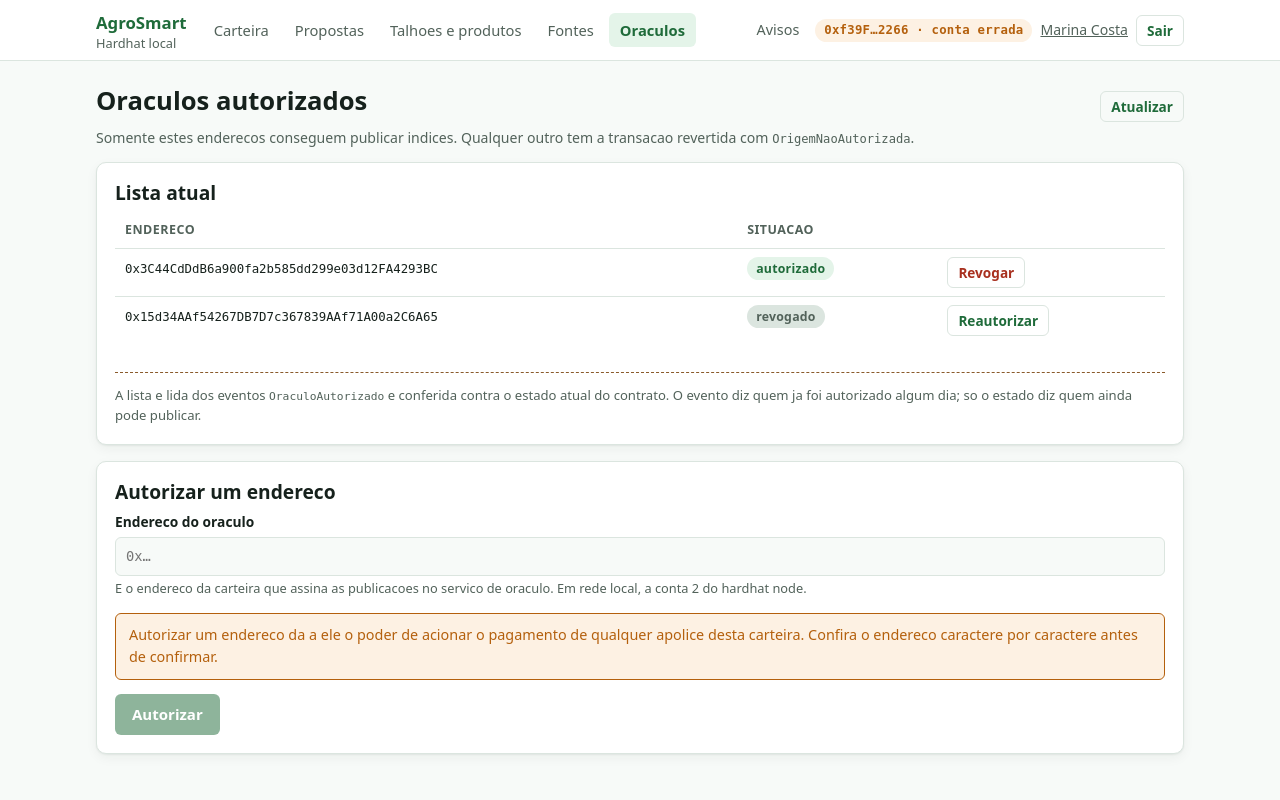
Test: oraculos autorizados (RF18) › lista, autoriza e revoga pela carteira da seguradora
Step 1. Click the button "Revogar" → coordinates (986, 272), box [947,257,1025,288]
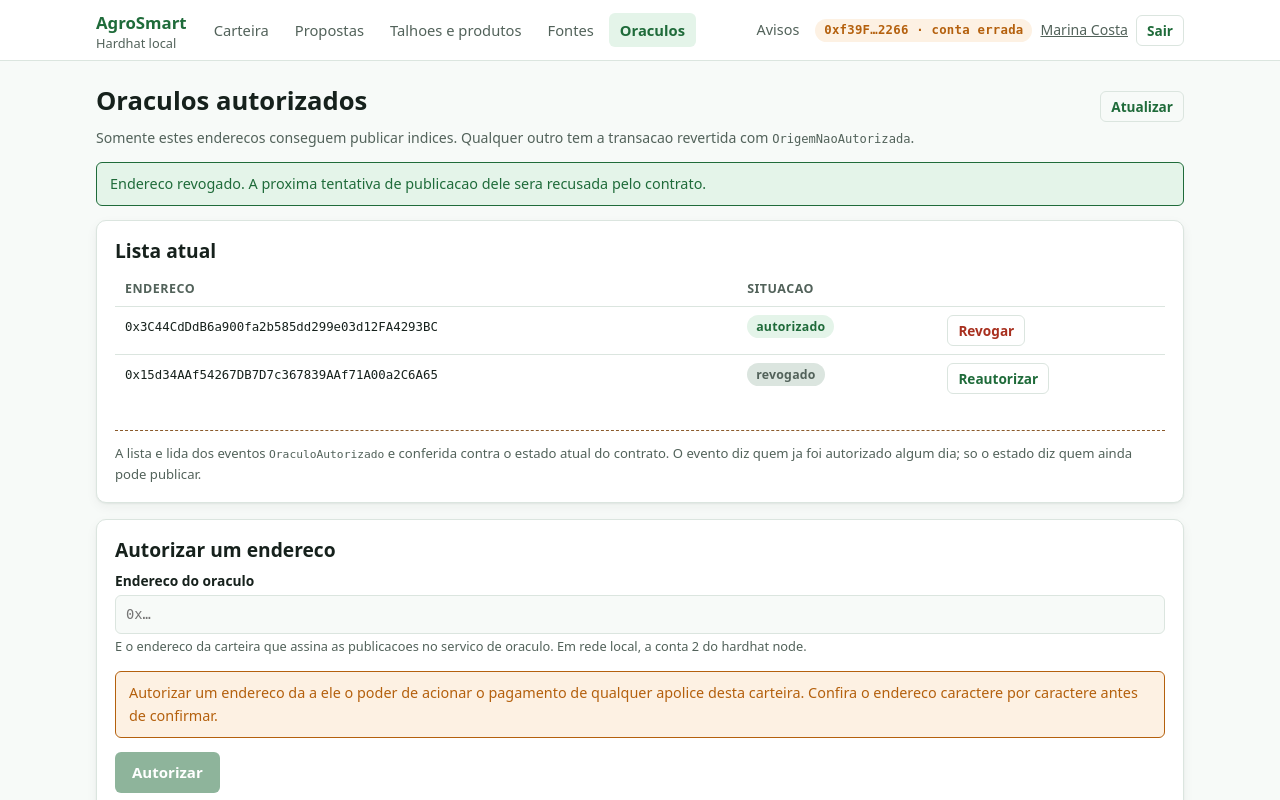
Now the text "Endereco revogado" is shown, box [110,174,706,193]
Step 2. Type "nao-e-endereco" into the field labelled "Endereco do oraculo" → coordinates (640, 615), box [115,595,1165,634]
(page scrolled)
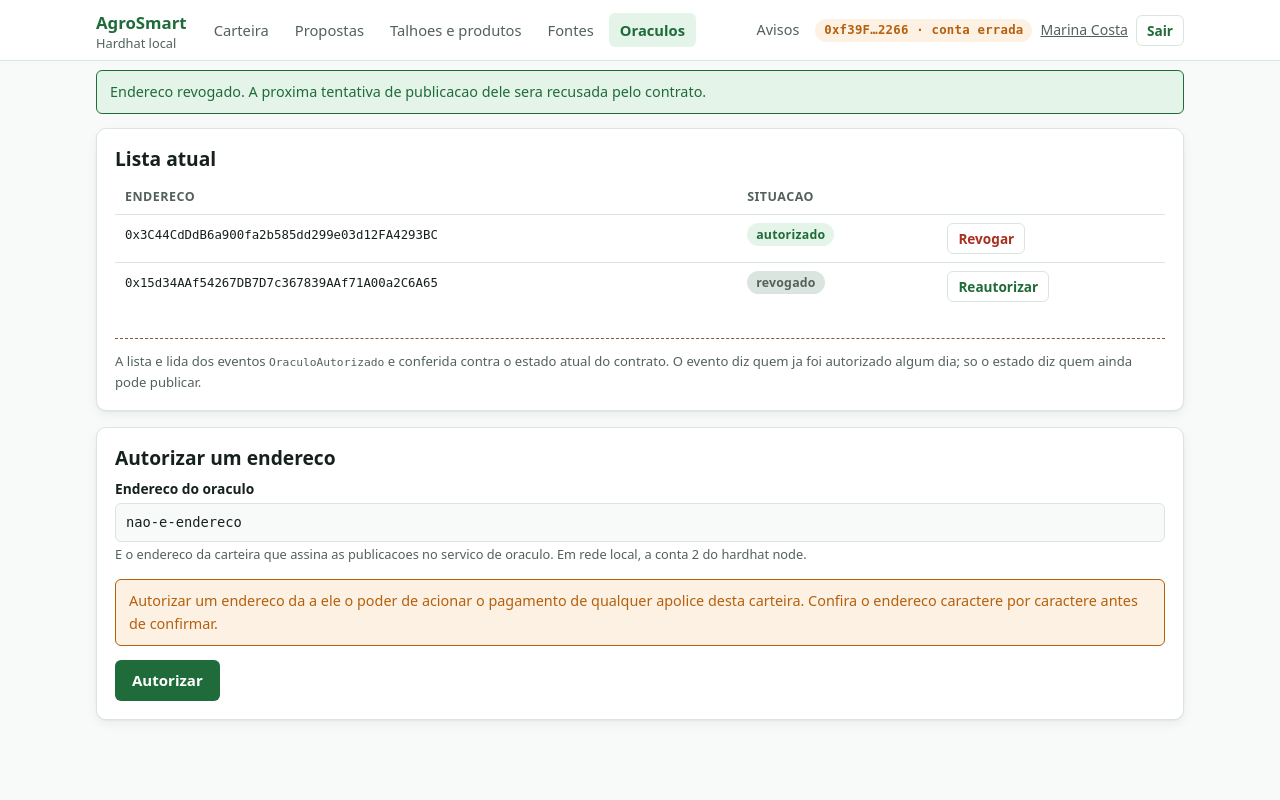
Step 3. Submit the form labelled "endereco", box [96,427,1184,720]
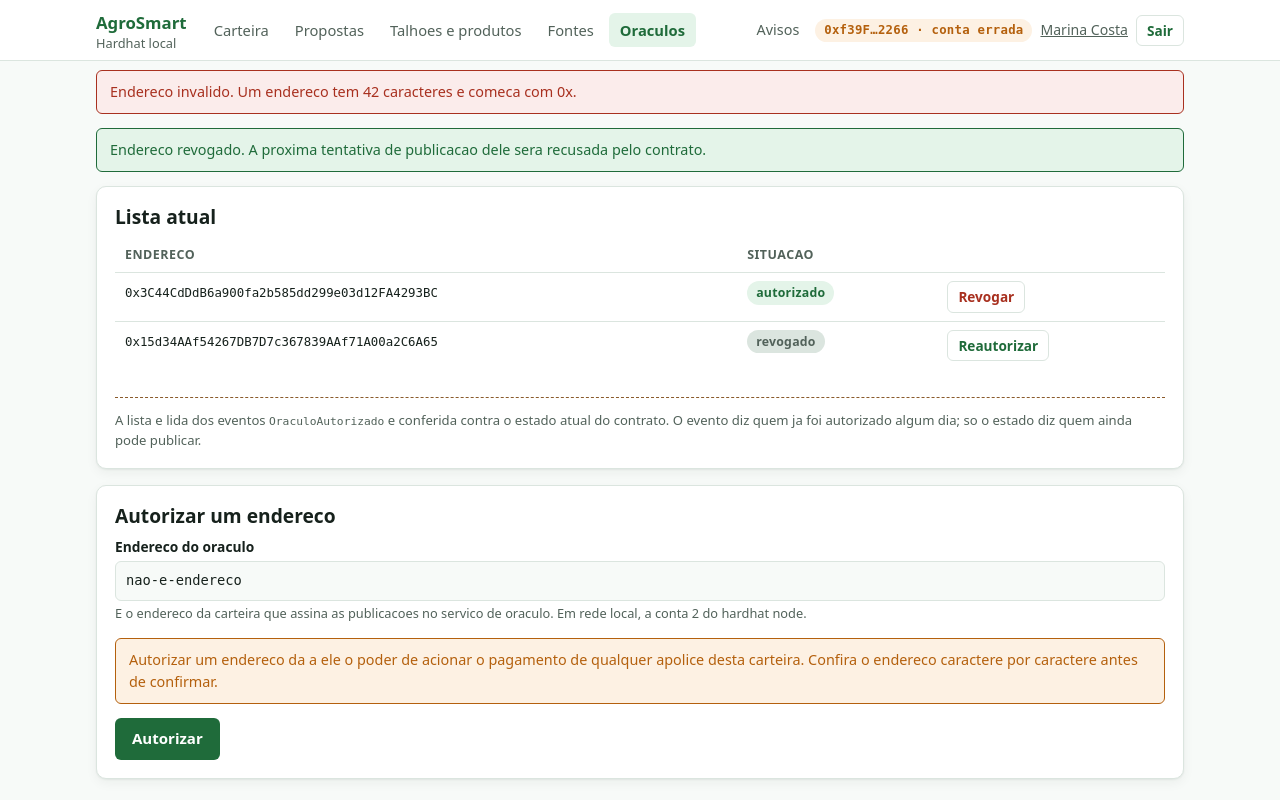
Now the text "Endereco invalido. Um endereco tem 42 caracteres e comeca com 0x." is shown, box [96,70,1184,114]
Step 4. Replace the text in the field labelled "Endereco do oraculo" with "0x9965507d1a55bcc2695c58ba16fb37d819b0a4dc" → coordinates (640, 581), box [115,561,1165,601]
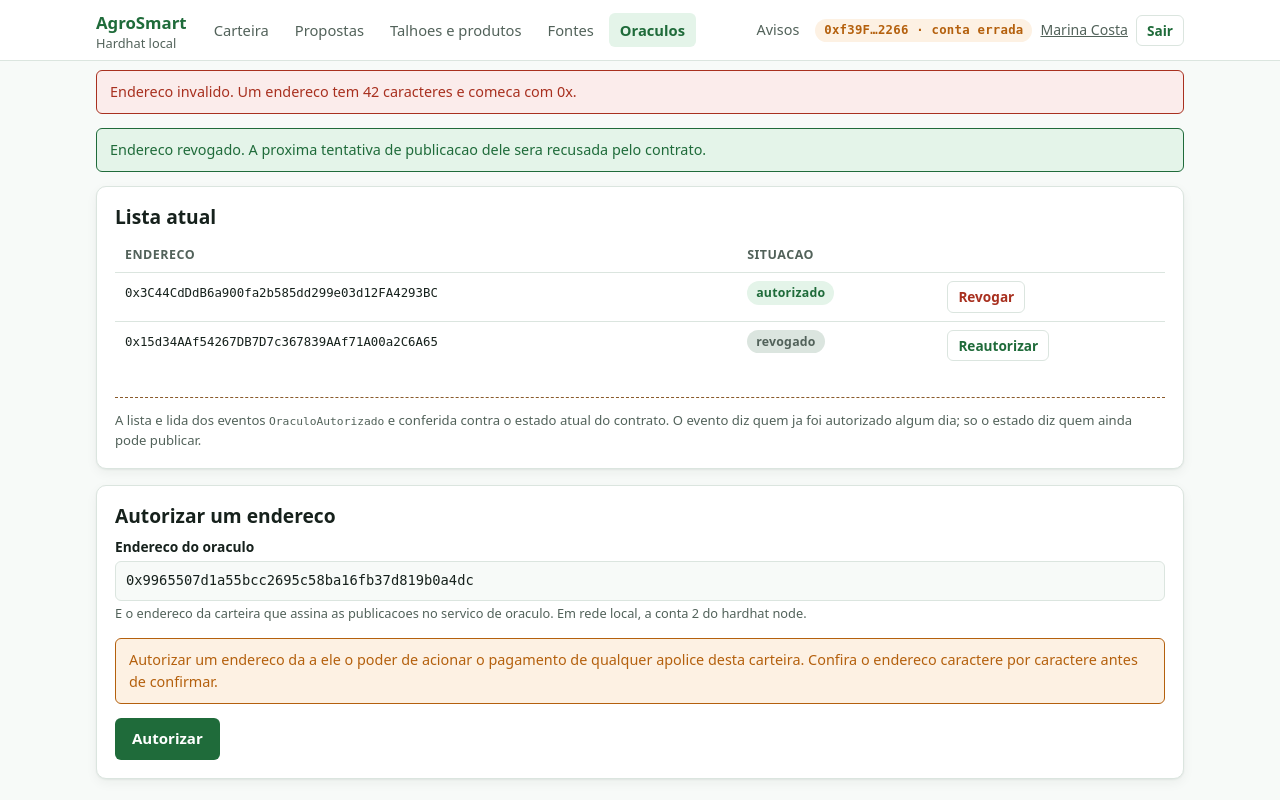
Step 5. Submit the form labelled "endereco", box [96,485,1184,778]
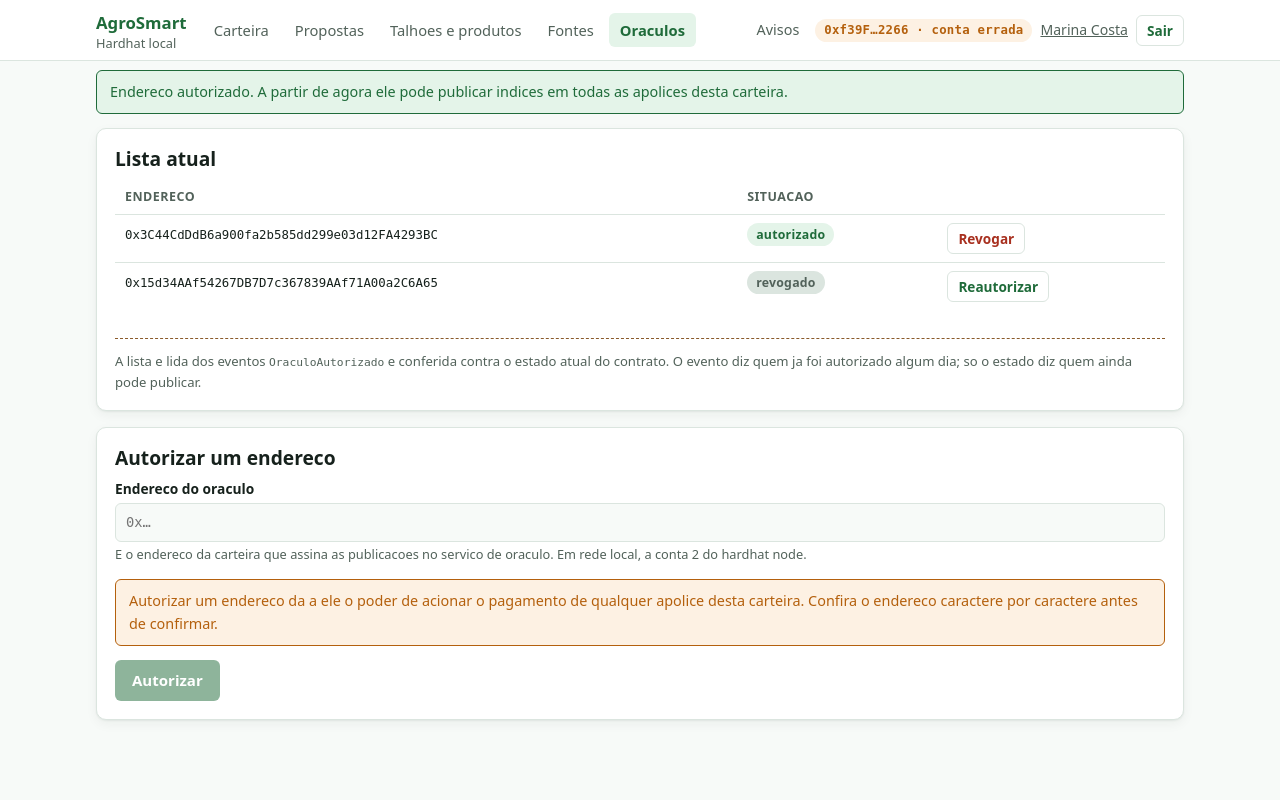
Now the text "Endereco autorizado" is shown, box [110,82,788,101]
